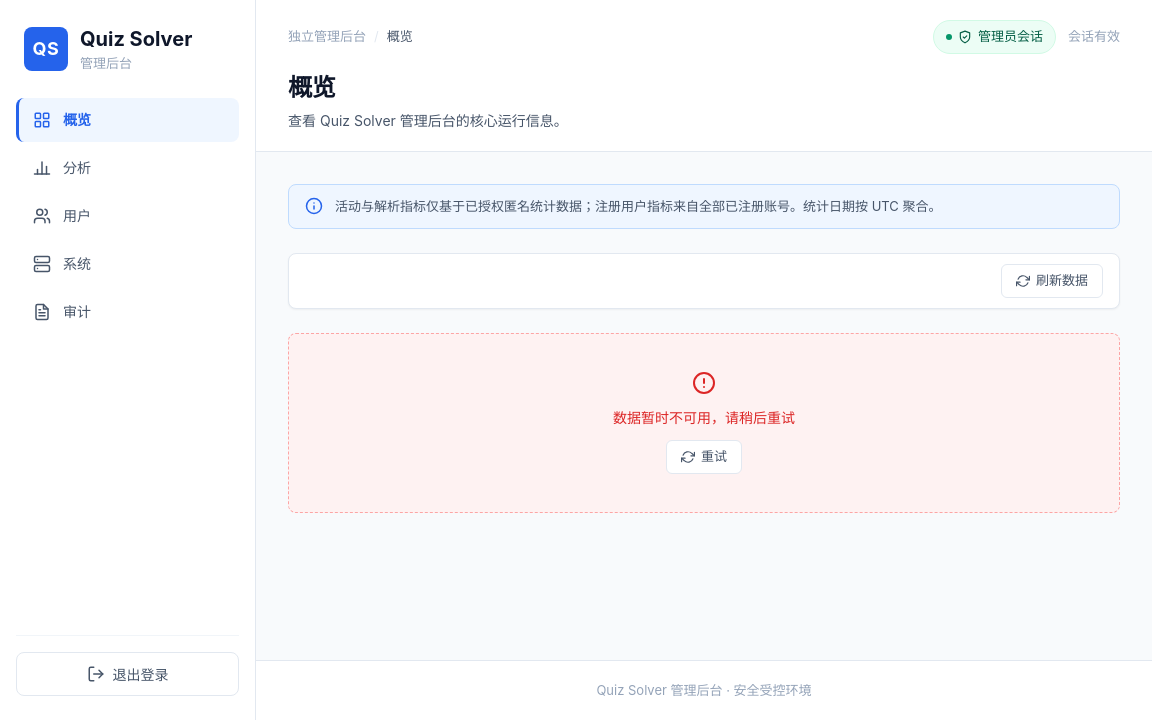
Admin Console UI & Analytics UI Tests › Overview View (/admin) › renders friendly error message and allows manual refresh on overview failure
The width and height of the screenshot is (1152, 720).
(page scrolled)
Check: the text "数据暂时不可用，请稍后重试" is shown, box [613,407,795,428]
What coordinates should you click on to do the following:
click the button "重试"
I would click on:
 (704, 457)
Its box is [666,440,742,474].
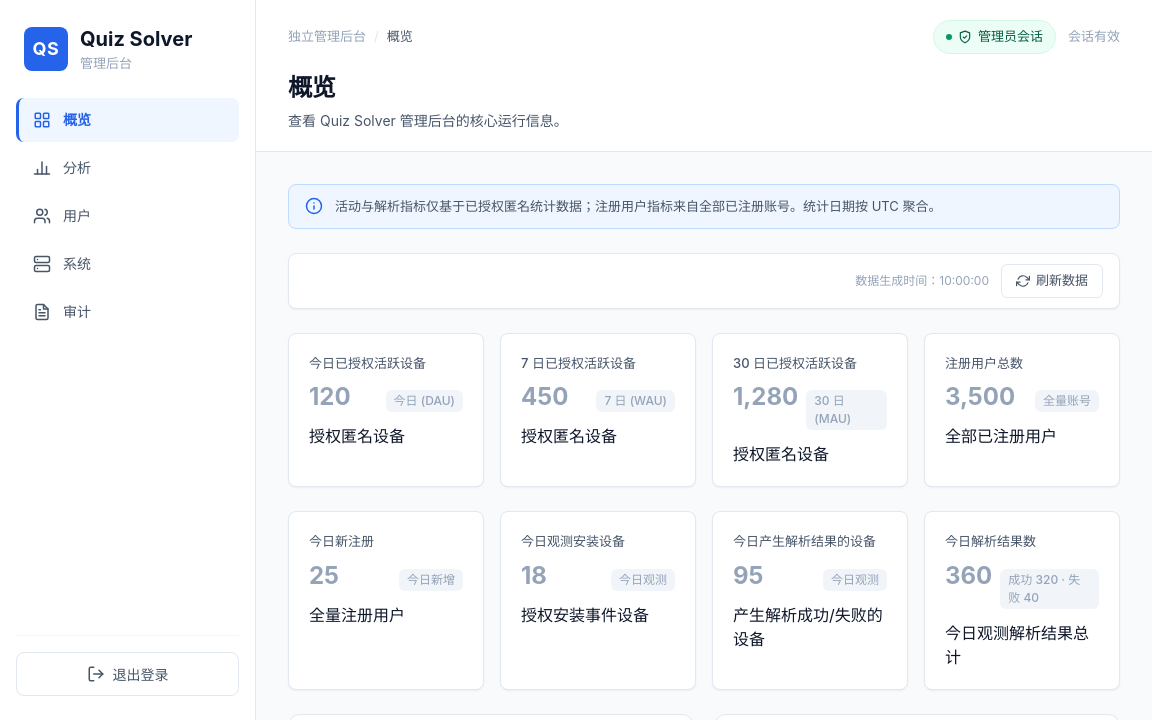
Check: the text "今日已授权活跃设备" is shown, box [309,354,426,370]
Check: the text "120" is shown, box [309,385,351,409]
